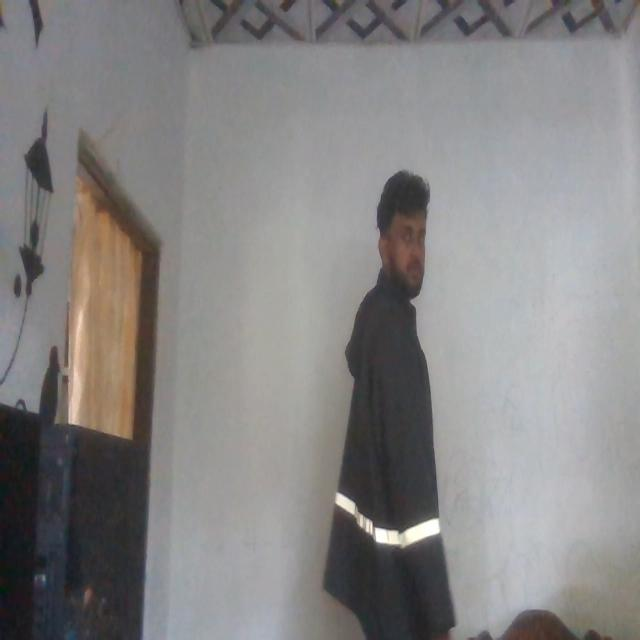Jacket_Wearer: (326, 263, 449, 632)
Person: (325, 164, 472, 640)
